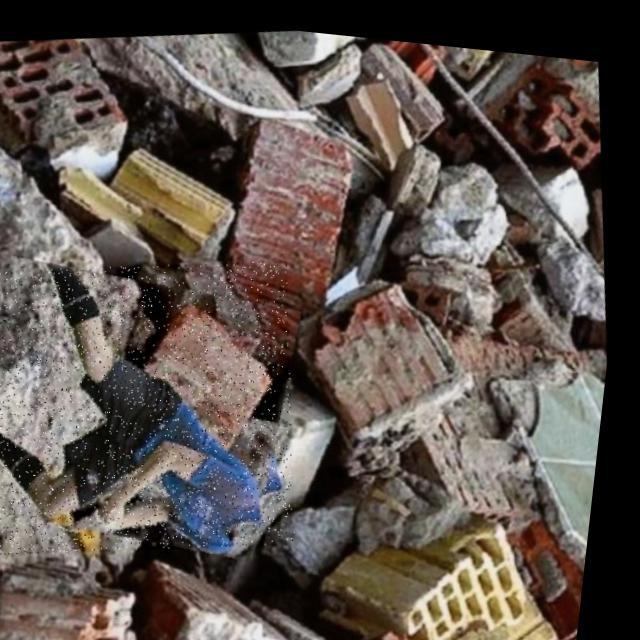Person in Rubble: (0, 228, 330, 582)
